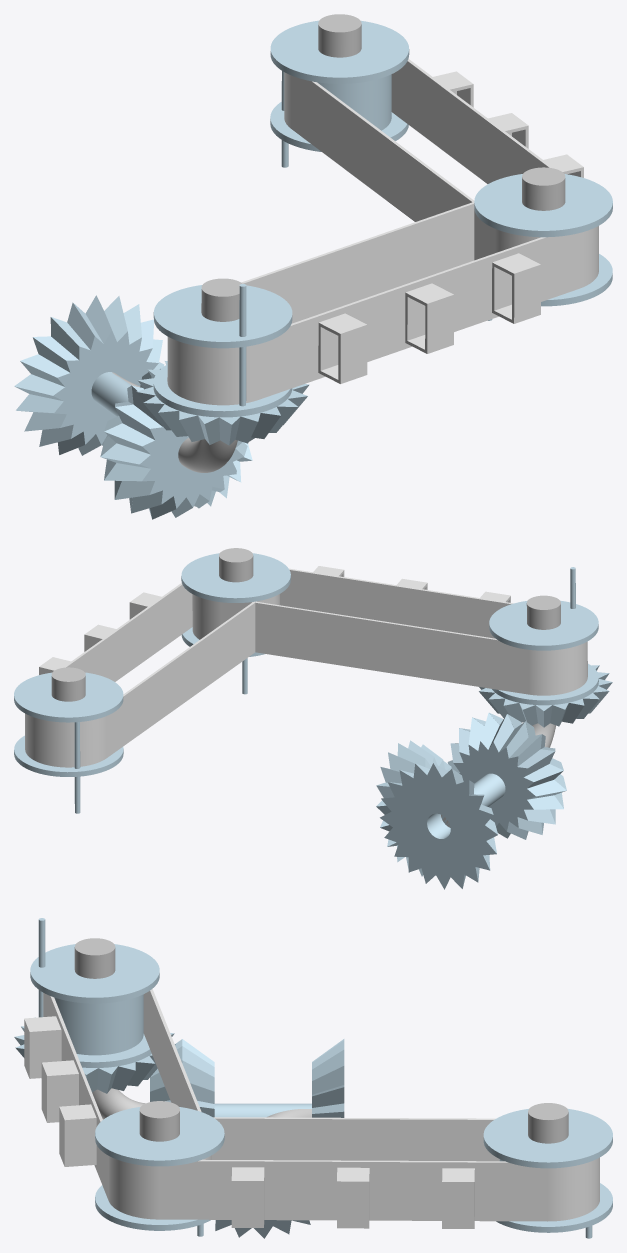
The model's file is Fully Complete Project Assembly.glb.
The picture shows the model from 3 angles, top to bottom: view 1: azimuth 30°, elevation 25°; view 2: azimuth 150°, elevation 25°; view 3: azimuth 270°, elevation 25°; orthographic projection. The views are drawn at different scales.
Parts seen in each view (by area): view 1: Part 4 (×2), Bevel (×4), Part 1 (×3), Part 2 (×3), L joint, Axle 2; view 2: Part 4 (×2), Bevel (×5), Part 1 (×3), Part 2 (×3), Axle 2; view 3: Part 4 (×2), Part 1 (×3), Bevel (×5), Part 2 (×3), Axle 2 (×2), L joint.
Part boxes in pixels (bbox=[...]): Part 4 (×2): bbox=[167, 59, 598, 405]; Bevel (×4): bbox=[14, 295, 309, 519]; Part 1 (×3): bbox=[153, 20, 612, 417]; Part 2 (×3): bbox=[201, 14, 565, 321]; L joint: bbox=[178, 438, 237, 472]; Axle 2: bbox=[91, 372, 131, 416]; Part 4 (×2): bbox=[25, 566, 587, 767]; Bevel (×5): bbox=[376, 665, 612, 889]; Part 1 (×3): bbox=[14, 553, 598, 813]; Part 2 (×3): bbox=[51, 548, 560, 701]; Axle 2: bbox=[474, 773, 505, 806]; Part 4 (×2): bbox=[24, 989, 599, 1228]; Part 1 (×3): bbox=[30, 918, 612, 1238]; Bevel (×5): bbox=[14, 1017, 344, 1238]; Part 2 (×3): bbox=[74, 938, 568, 1143]; Axle 2 (×2): bbox=[214, 1103, 311, 1117]; L joint: bbox=[92, 1088, 145, 1119].
Bounding box in the file's own units: 0.2168 × 0.127 × 0.235.
